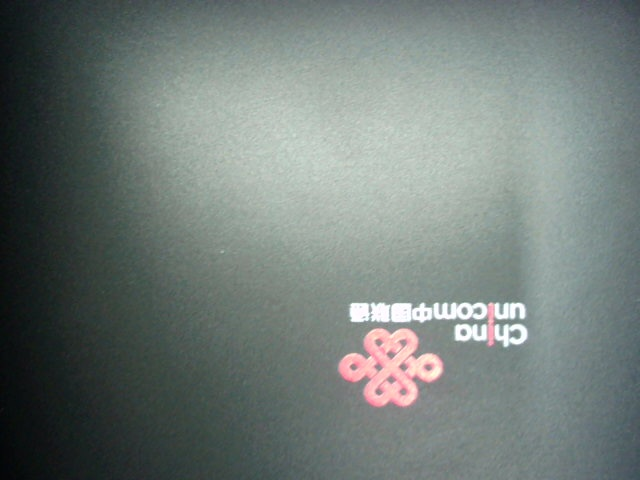AC_ChinaUnicom: (318, 290, 529, 413)
